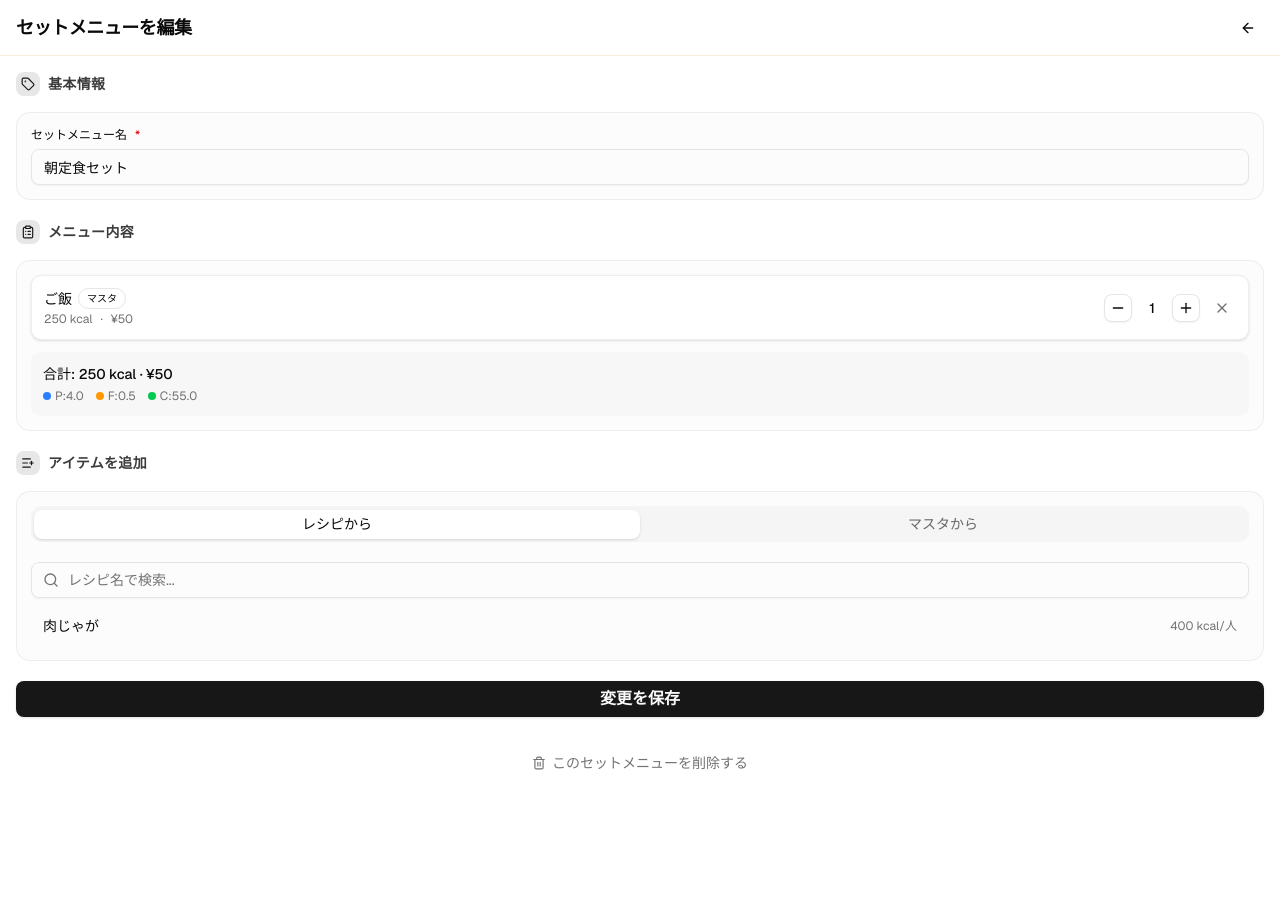
it: SetMenuFormView (S-06a セットメニュー登録/編集) › 戻るときの未保存の確認(G-8) › ui-tech §4: 「破棄して戻る」を選ぶと一覧に戻り、隠れて残る画面は最初の値に戻っている
Type "改" into the field labelled "セットメニュー名 *" at {"x": 640, "y": 167}, box [31, 149, 1249, 185]
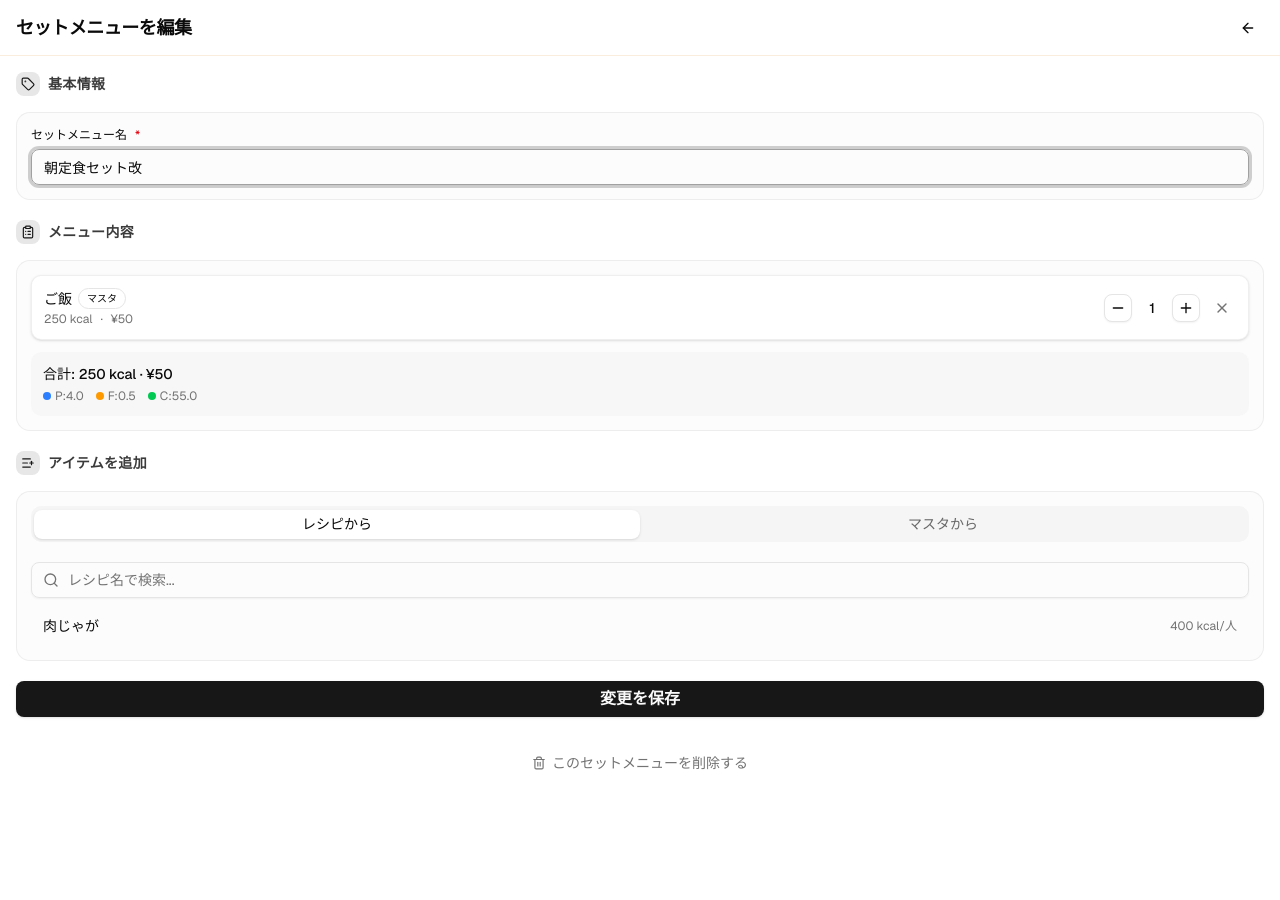
Click the button named "「ご飯」を外す" at {"x": 1222, "y": 308}, box [1208, 294, 1236, 322]
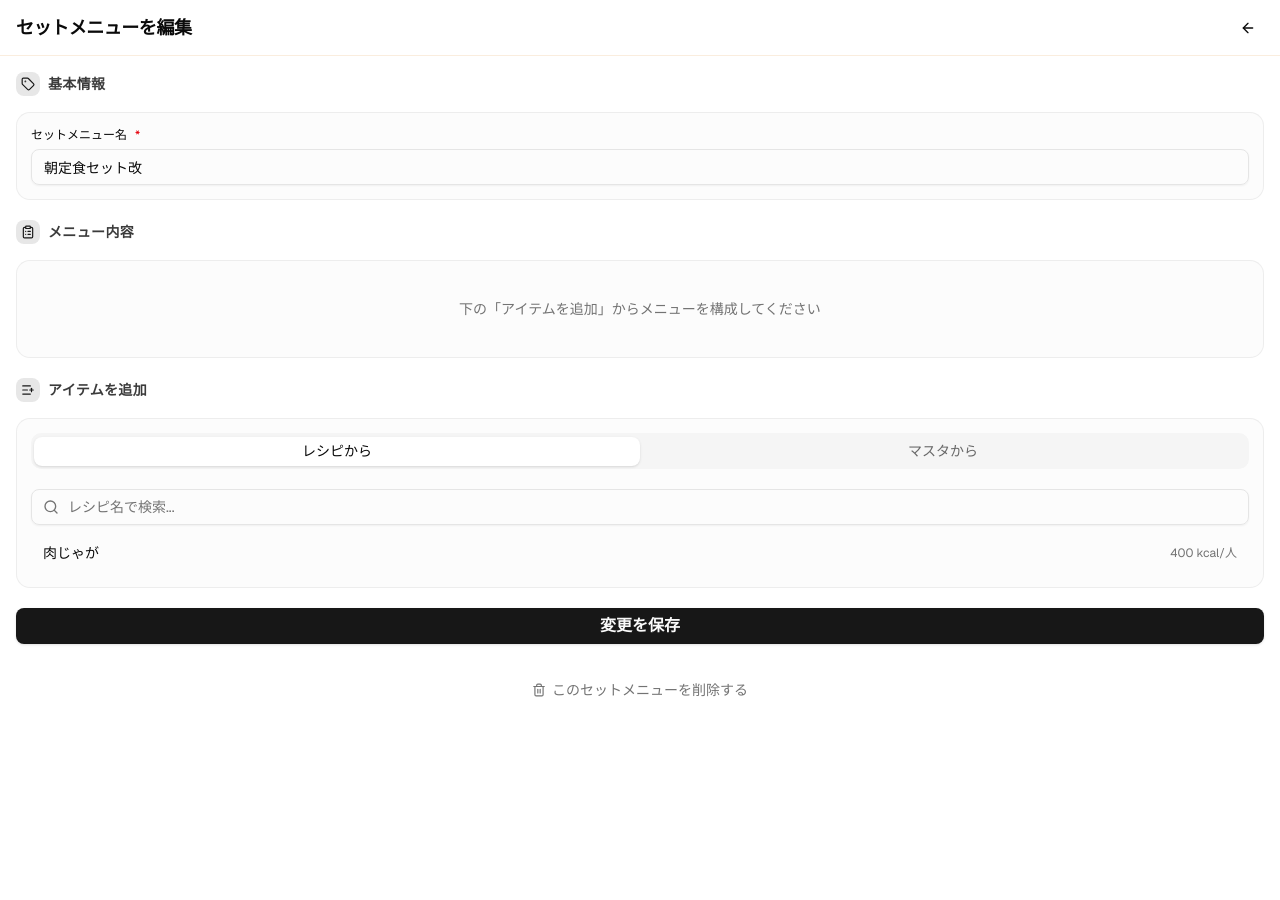
Click the button named "セットメニューの一覧に戻る" at {"x": 1248, "y": 28}, box [1232, 12, 1264, 44]
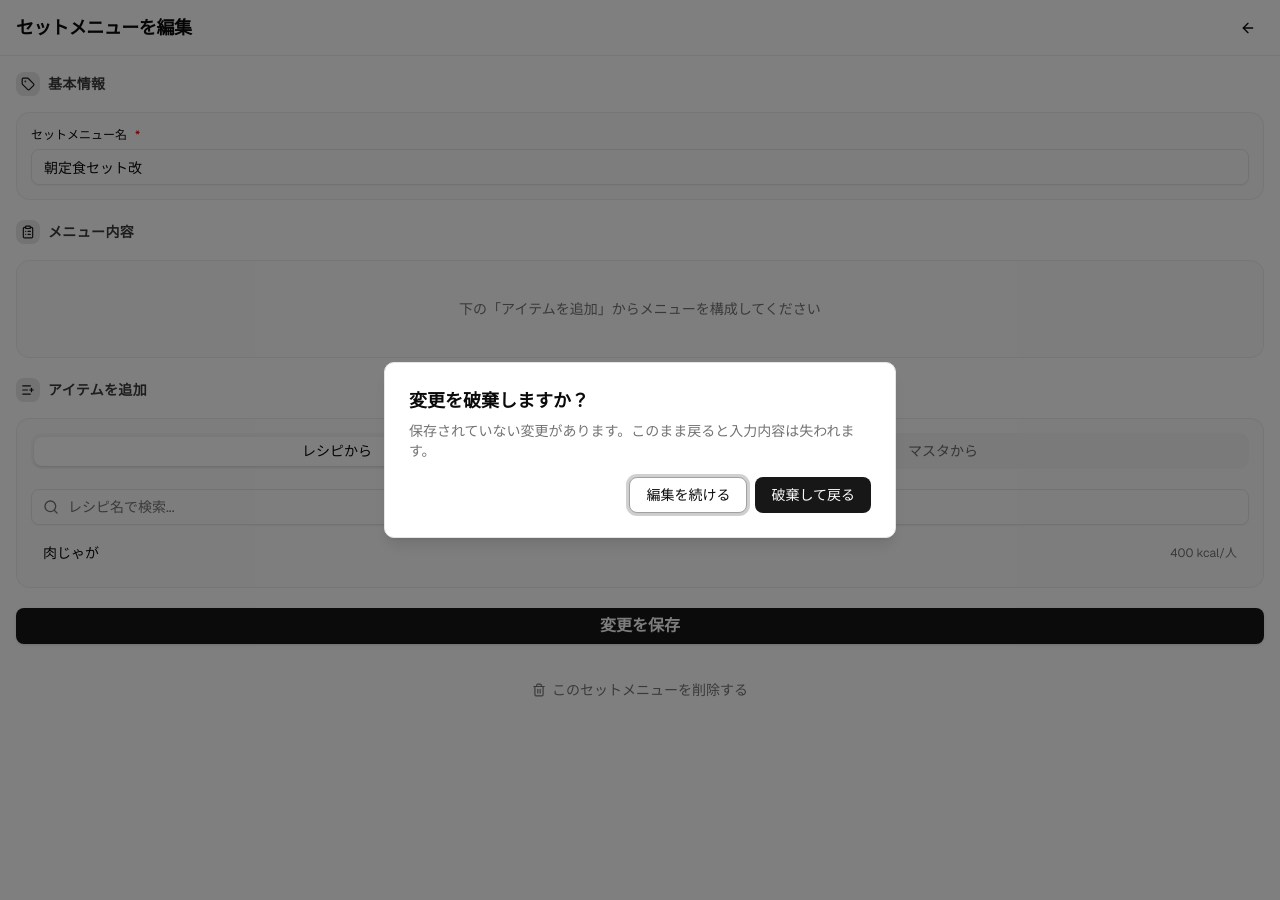
Click the button "破棄して戻る" at {"x": 813, "y": 495}, box [755, 477, 871, 513]
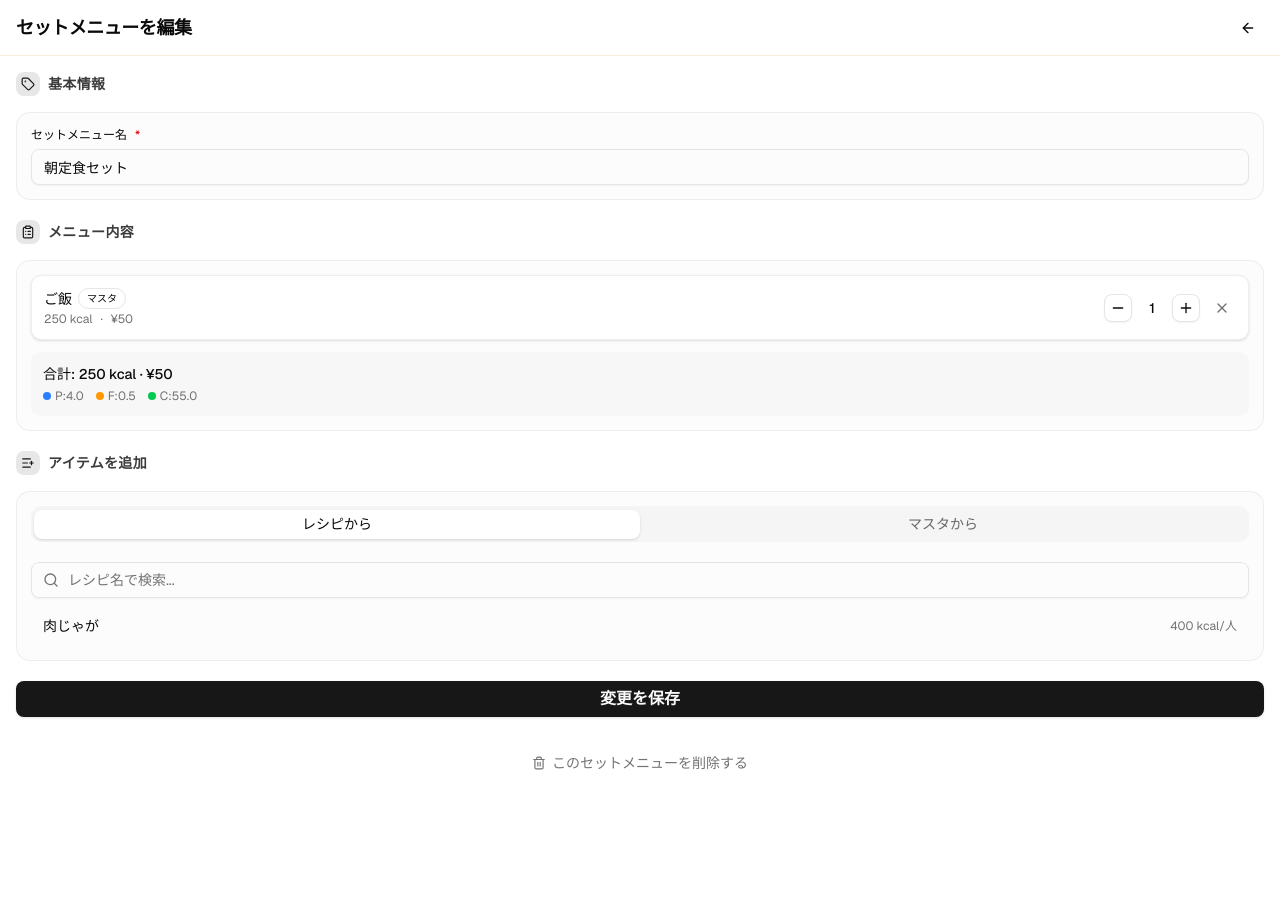
Result: the field labelled "セットメニュー名 *" holds "朝定食セット" at [31, 149, 1249, 185]
Result: the button named "「ご飯」を外す" is shown at [1208, 294, 1236, 322]
